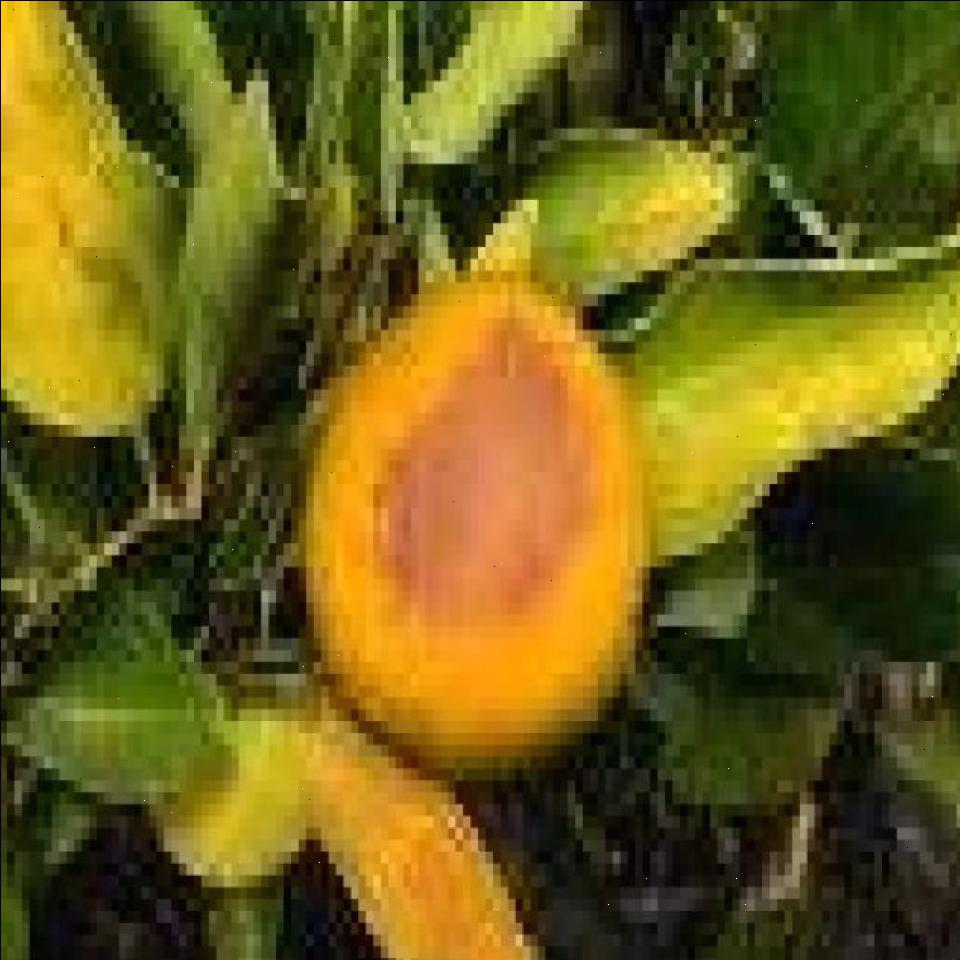Sunscald: (350, 311, 590, 643)
